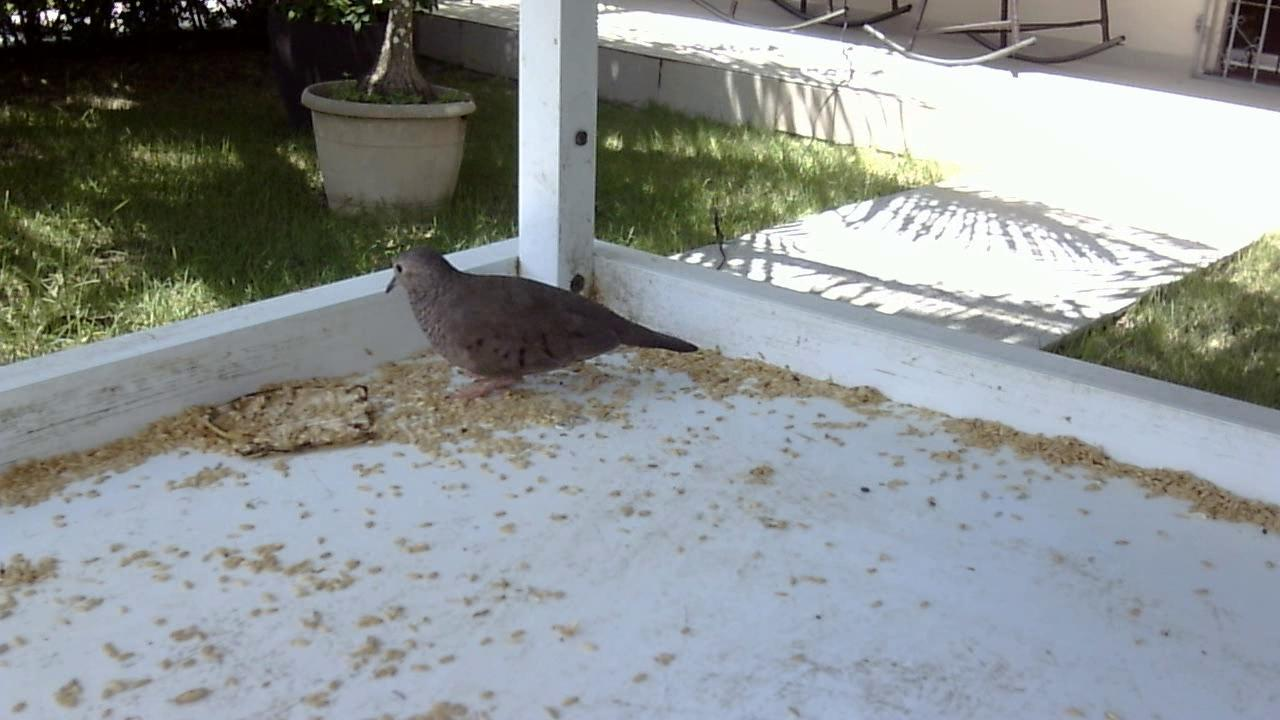rolinha: (381, 234, 703, 403)
